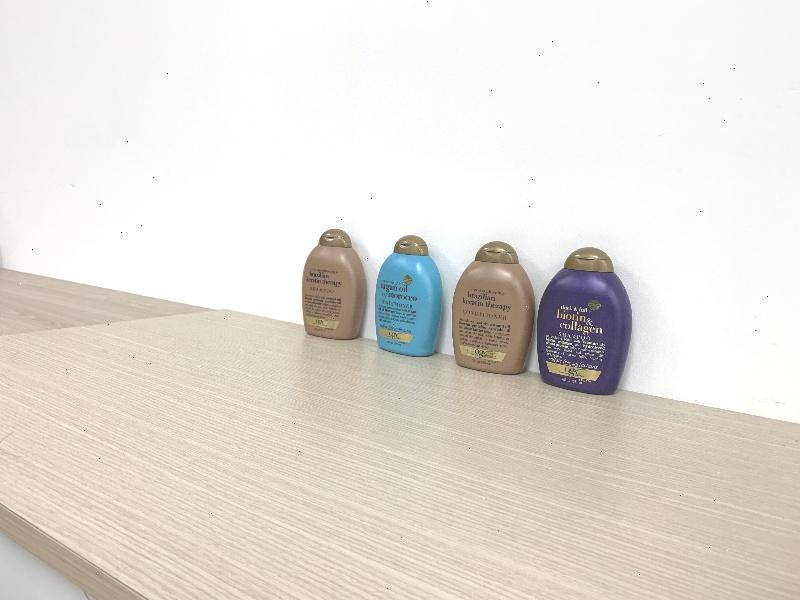ArganOilOfMorocco_Conditioner: (376, 235, 443, 357)
BiotinCollagen_Shampoo: (537, 246, 632, 397)
BrazilianKeratinTherapy_Shampoo: (303, 229, 366, 340)
BrazilianKerationTherapy_Conditioner: (452, 241, 535, 375)
